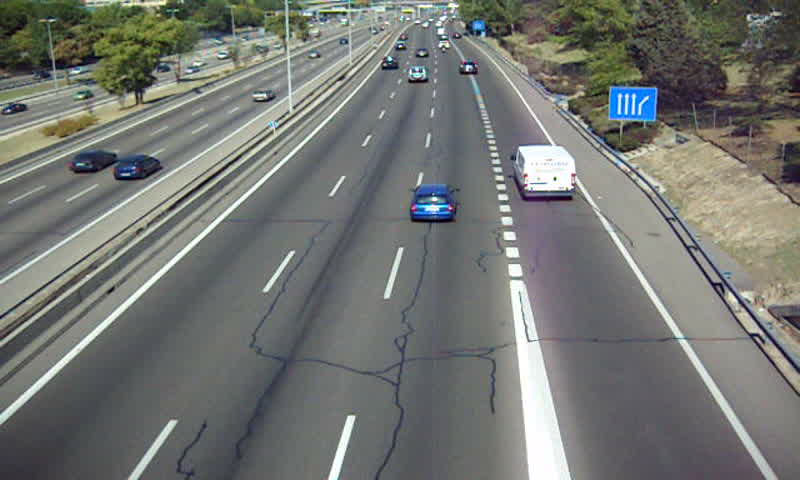car: (411, 184, 454, 221), (406, 66, 428, 83), (459, 60, 481, 74), (381, 56, 399, 72)
van: (511, 145, 577, 200)
